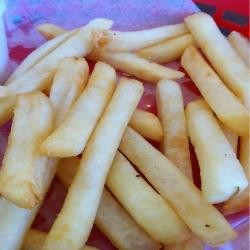fries: (25, 35, 226, 215)
